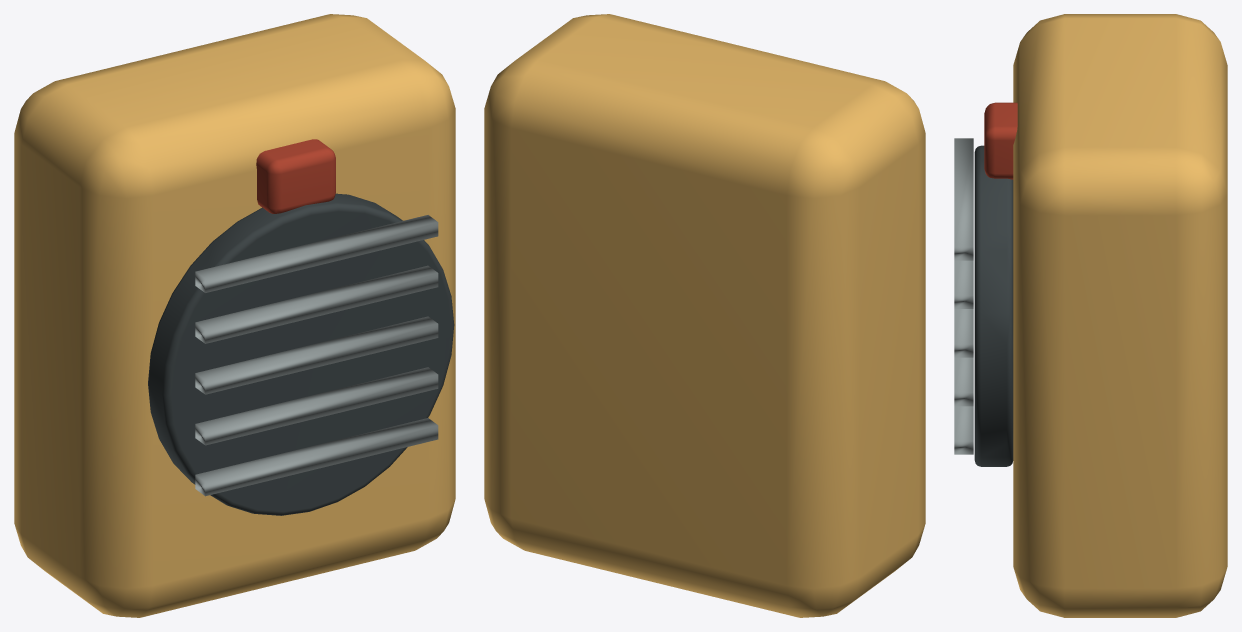
File: EQP_Noisemaker.fbx
The picture shows the model from 3 angles, left to right: view 1: azimuth 30°, elevation 25°; view 2: azimuth 150°, elevation 25°; view 3: azimuth 270°, elevation 25°; orthographic projection. The views are drawn at different scales.
Visible parts, largest first — view 1: EQP_Noisemaker; view 2: EQP_Noisemaker; view 3: EQP_Noisemaker.
Part boxes in pixels (<box>): EQP_Noisemaker: <box>14,14,455,617</box>; EQP_Noisemaker: <box>484,14,925,617</box>; EQP_Noisemaker: <box>954,14,1227,617</box>.
Bounding box in the file's own units: 0.19 × 0.24 × 0.1275.
